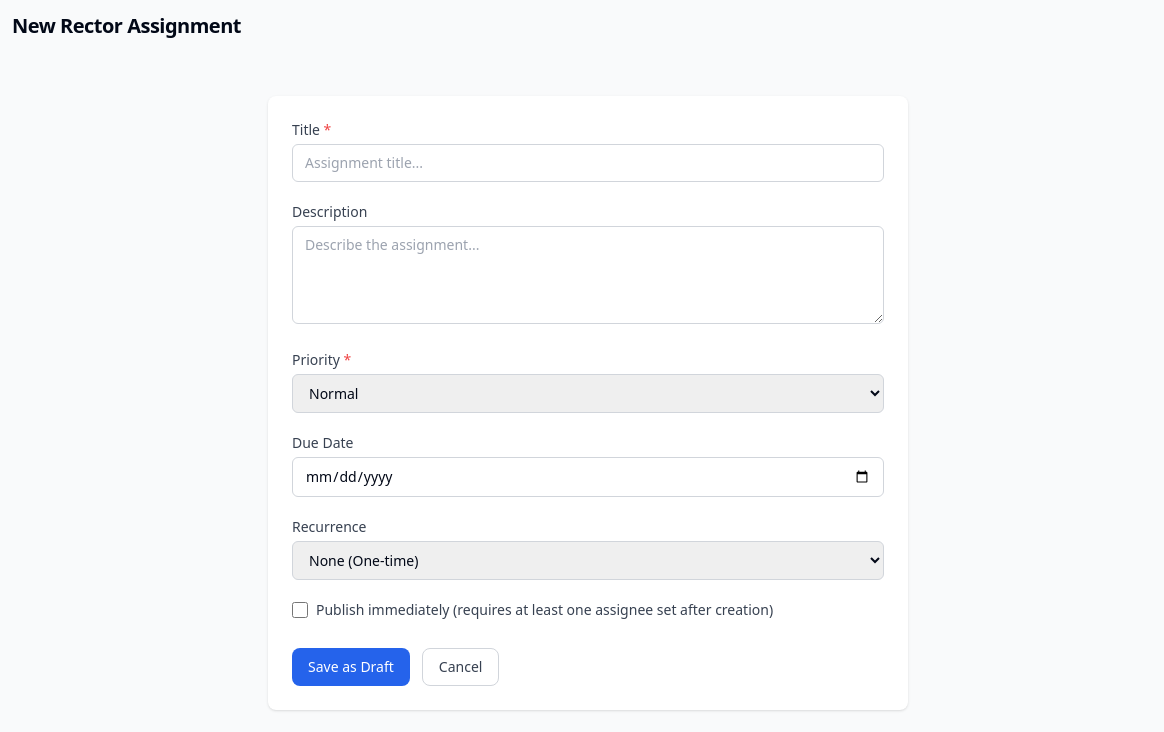
Test: NewRectorAssignmentPage › shows validation error when title is empty
Click the button with test id "submit-btn": click(351, 667) [292,648,410,686]
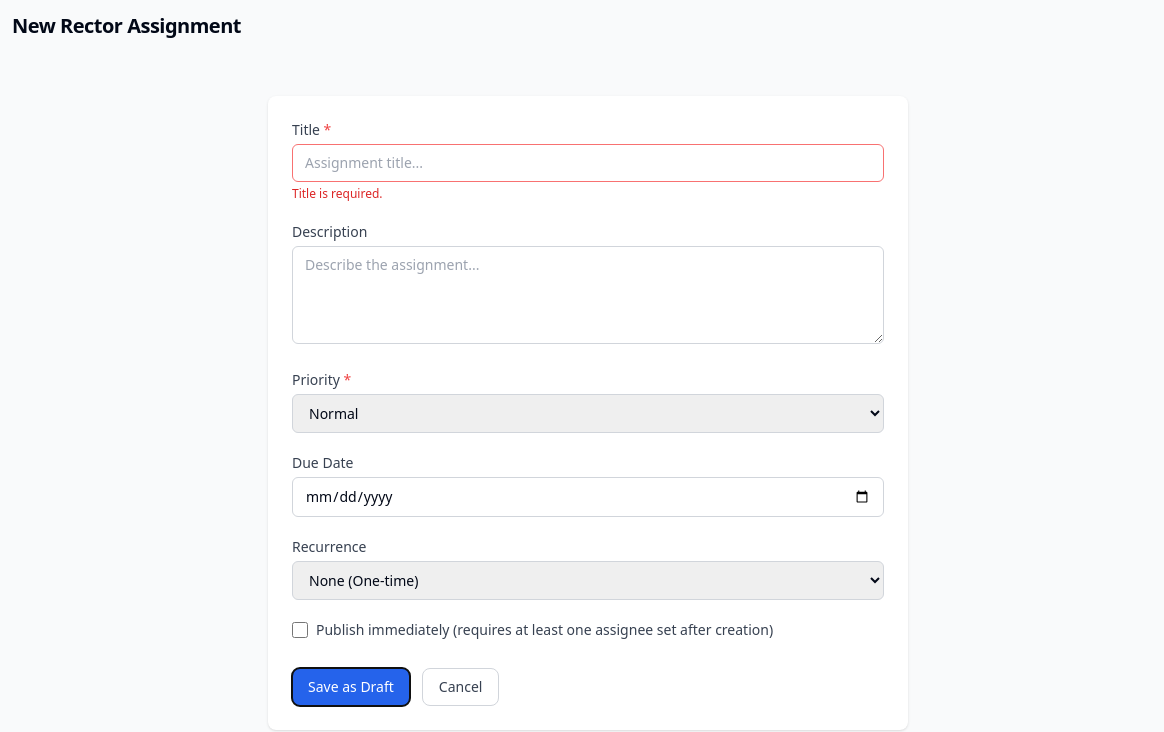
Result: the text "Title is required." is shown at [292,185,382,202]
